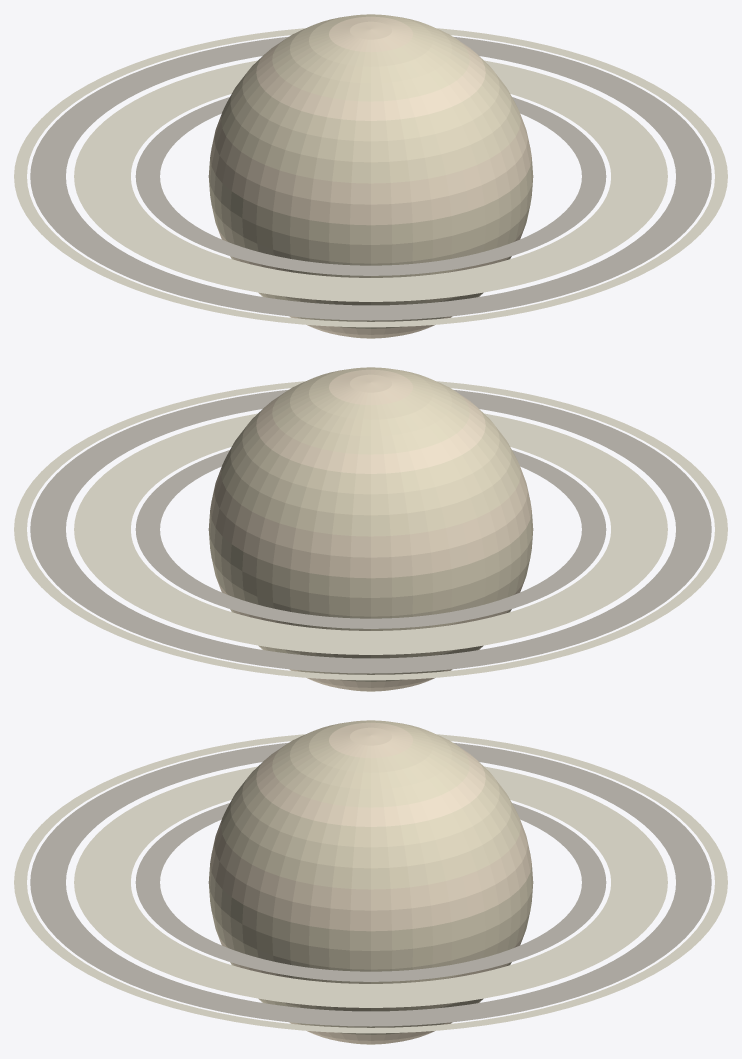
The model's file is 11_Saturn.glb.
3 views of the same model, one above another, from view 1: azimuth 30°, elevation 25°; view 2: azimuth 150°, elevation 25°; view 3: azimuth 270°, elevation 25° (orthographic).
Parts seen in each view (by area): view 1: Saturn (×8), Ring_1, Ring_2, Ring_3, Ring_0; view 2: Saturn (×8), Ring_1, Ring_2, Ring_3, Ring_0; view 3: Saturn (×8), Ring_1, Ring_2, Ring_3, Ring_0.
Boxes of the visible parts, <box> form: Saturn (×8): <box>208,14,533,337</box>; Ring_1: <box>74,60,667,301</box>; Ring_2: <box>30,37,711,320</box>; Ring_3: <box>14,28,727,327</box>; Ring_0: <box>135,97,606,275</box>; Saturn (×8): <box>208,367,533,690</box>; Ring_1: <box>74,413,667,654</box>; Ring_2: <box>30,390,711,673</box>; Ring_3: <box>14,381,727,680</box>; Ring_0: <box>135,450,606,628</box>; Saturn (×8): <box>208,720,533,1043</box>; Ring_1: <box>74,766,667,1007</box>; Ring_2: <box>30,743,711,1026</box>; Ring_3: <box>14,734,727,1033</box>; Ring_0: <box>135,803,606,981</box>.
Bounding box in the file's own units: 4.4 × 2 × 4.4.
